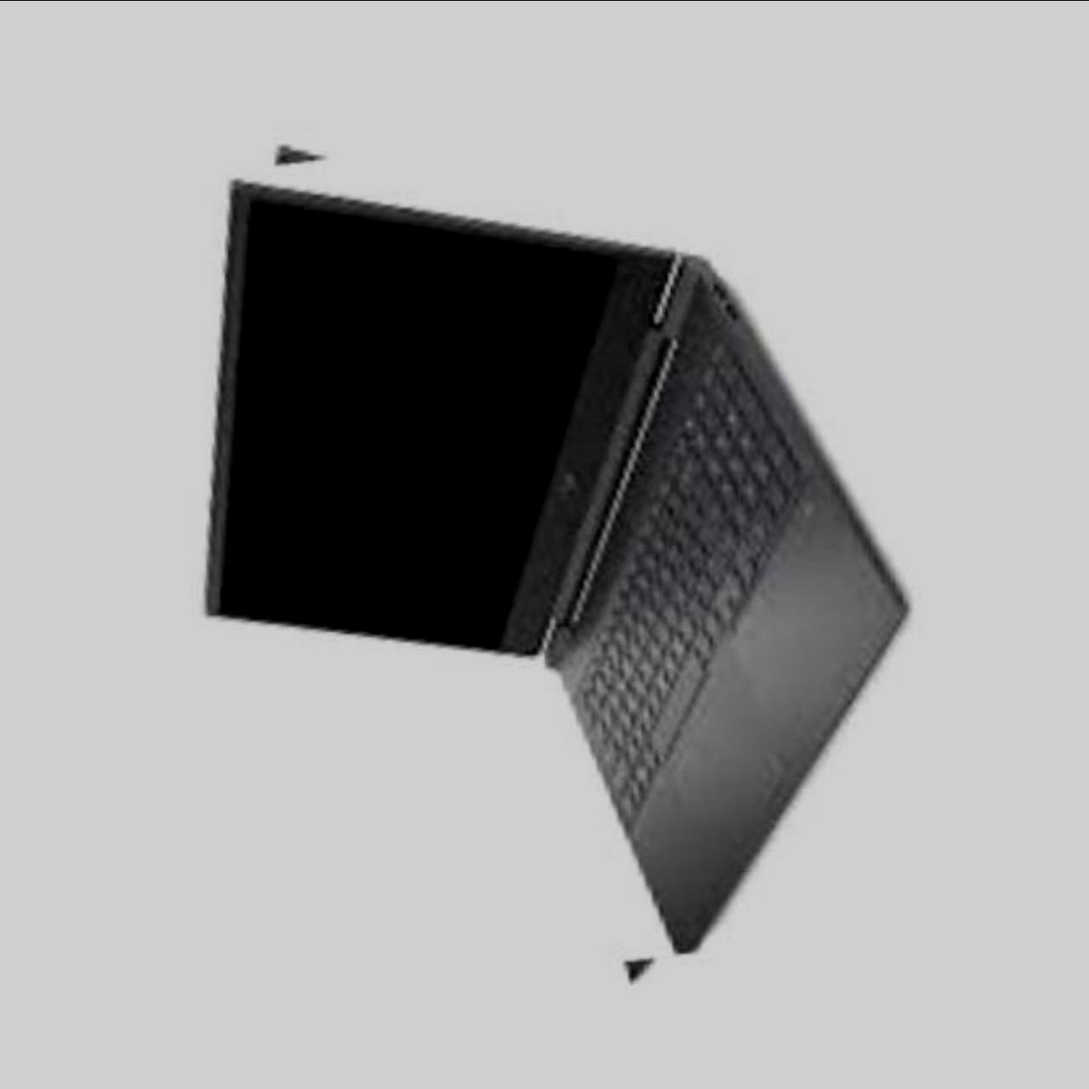laptop: (115, 115, 957, 991)
